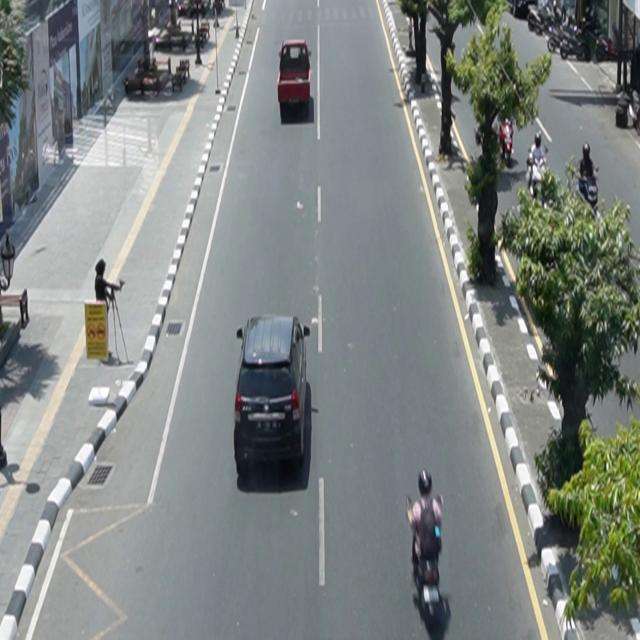car: (234, 315, 311, 476), (278, 39, 313, 110)
